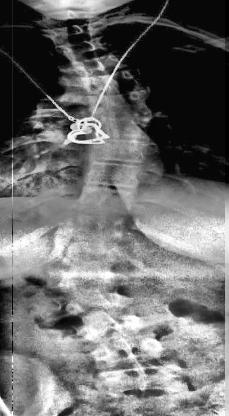Vertebrae: (97, 360, 190, 396), (72, 306, 148, 344), (87, 332, 167, 368), (50, 262, 130, 296), (47, 235, 124, 270), (58, 210, 128, 246), (63, 290, 138, 320), (86, 91, 154, 123), (71, 185, 135, 217), (81, 161, 145, 191), (84, 114, 152, 142), (88, 138, 150, 166), (66, 54, 130, 80), (80, 70, 144, 96), (55, 34, 117, 60), (41, 20, 109, 42)
